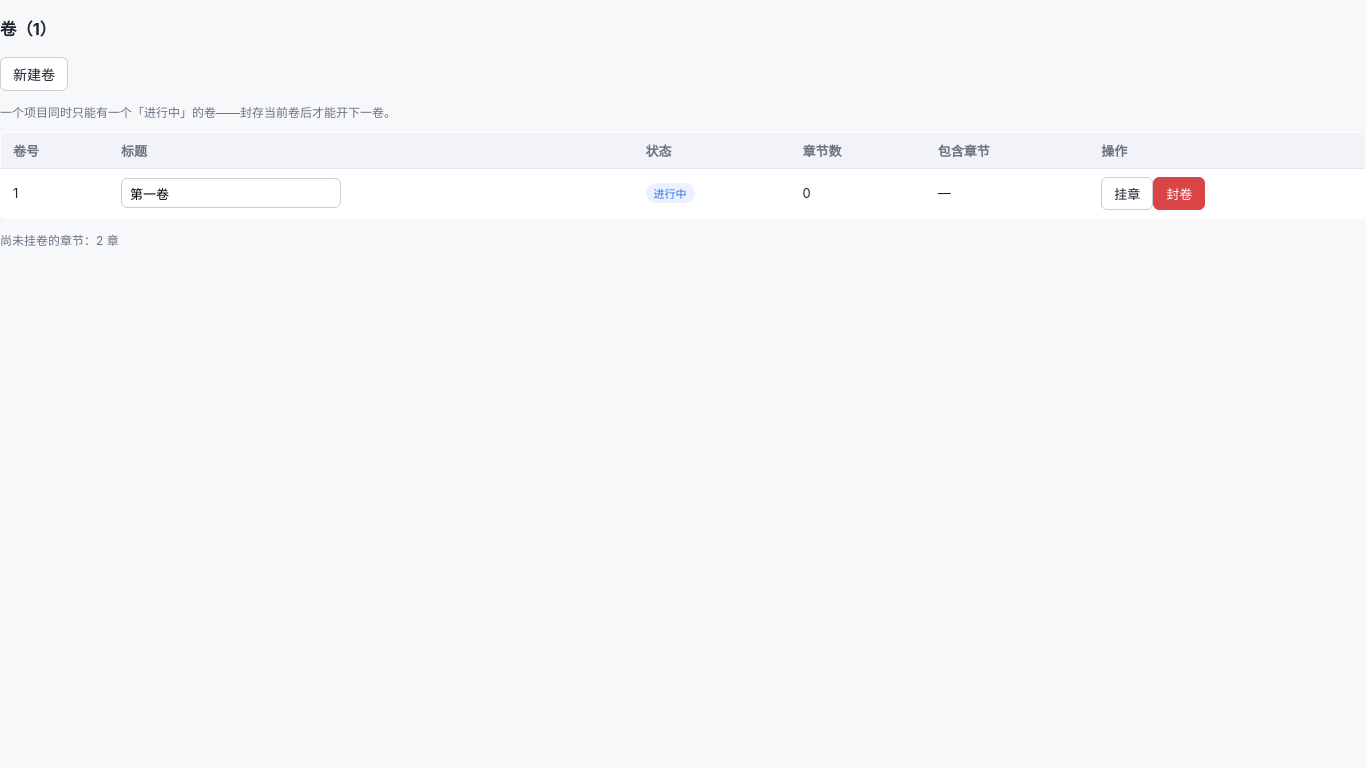
Test: VolumesTab › 挂章 ⇒ 提交所选 chapter_id，并提示挂到了第几章
The image size is (1366, 768).
Click the button with test id "volume-assign-vol_1": {"x": 1127, "y": 193} x1=1101 y1=177 x2=1153 y2=210
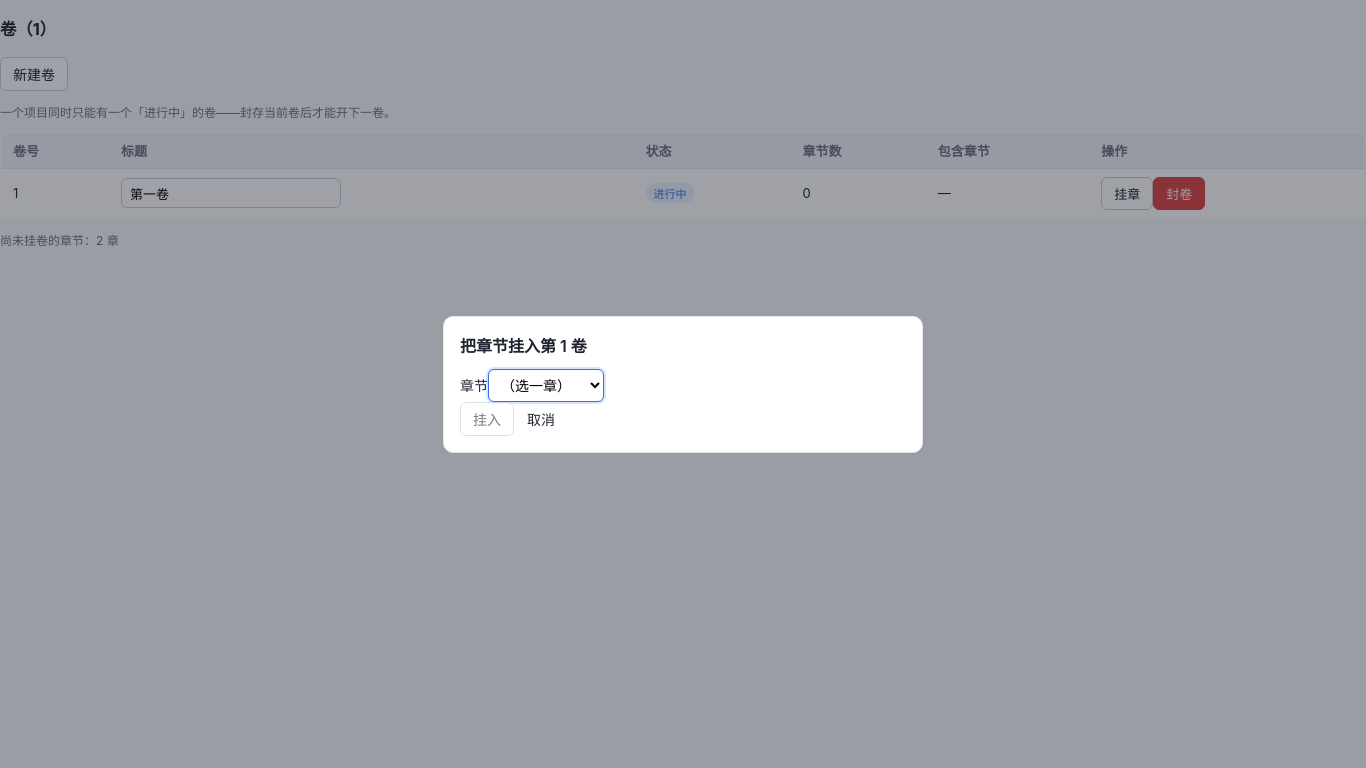
Select "第2章 第2章" in the dropdown with test id "volume-assign-select": {"x": 546, "y": 385} x1=488 y1=368 x2=604 y2=402
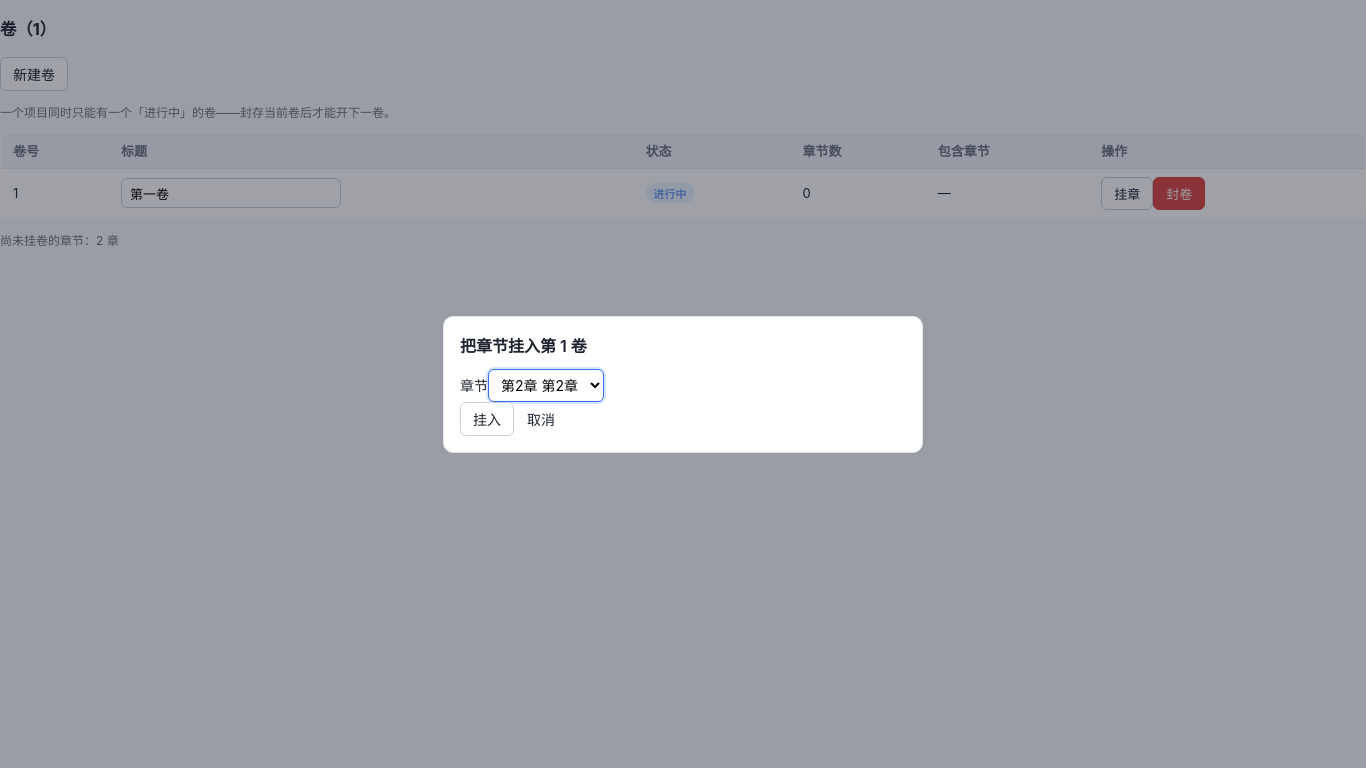
Click the button with test id "volume-assign-submit": {"x": 487, "y": 418} x1=460 y1=402 x2=514 y2=436
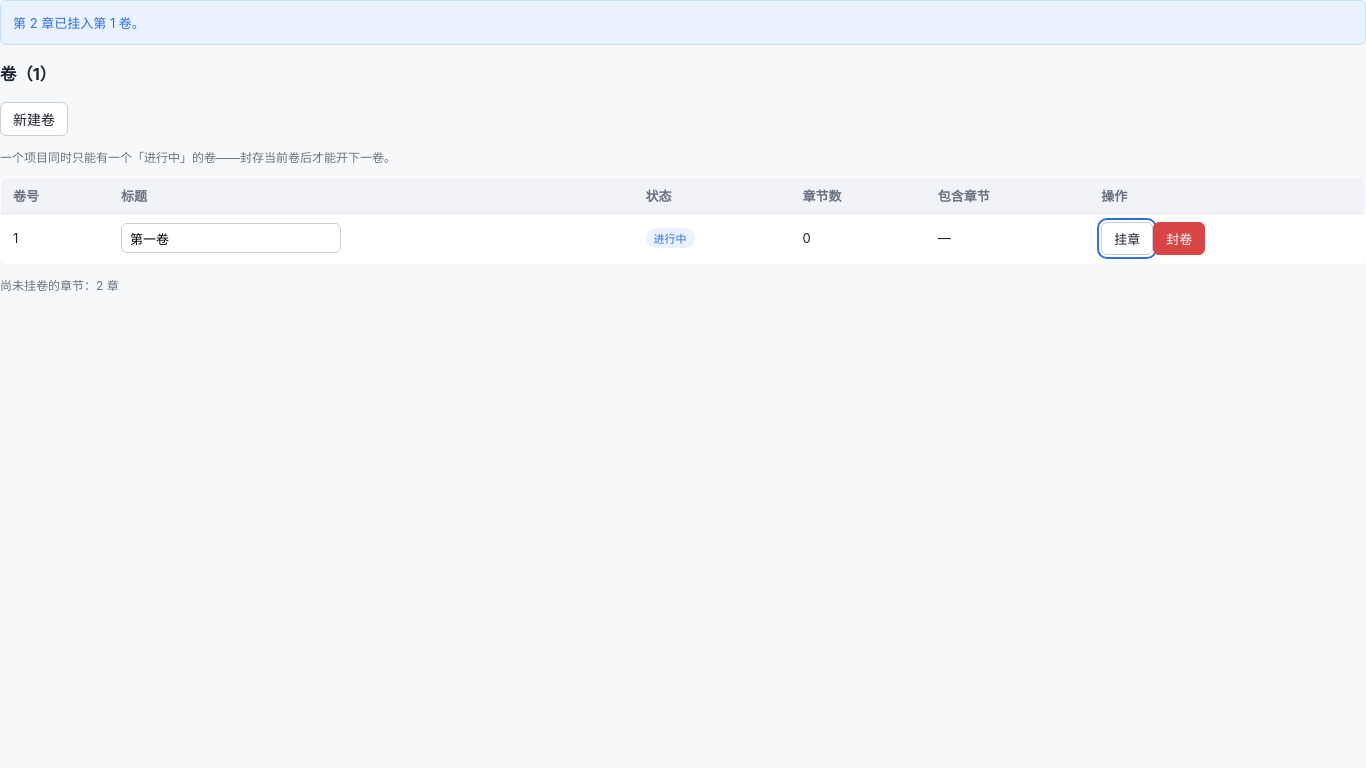
Now the text "第 2 章已挂入第 1 卷。" is shown, box x1=0 y1=0 x2=1365 y2=45
